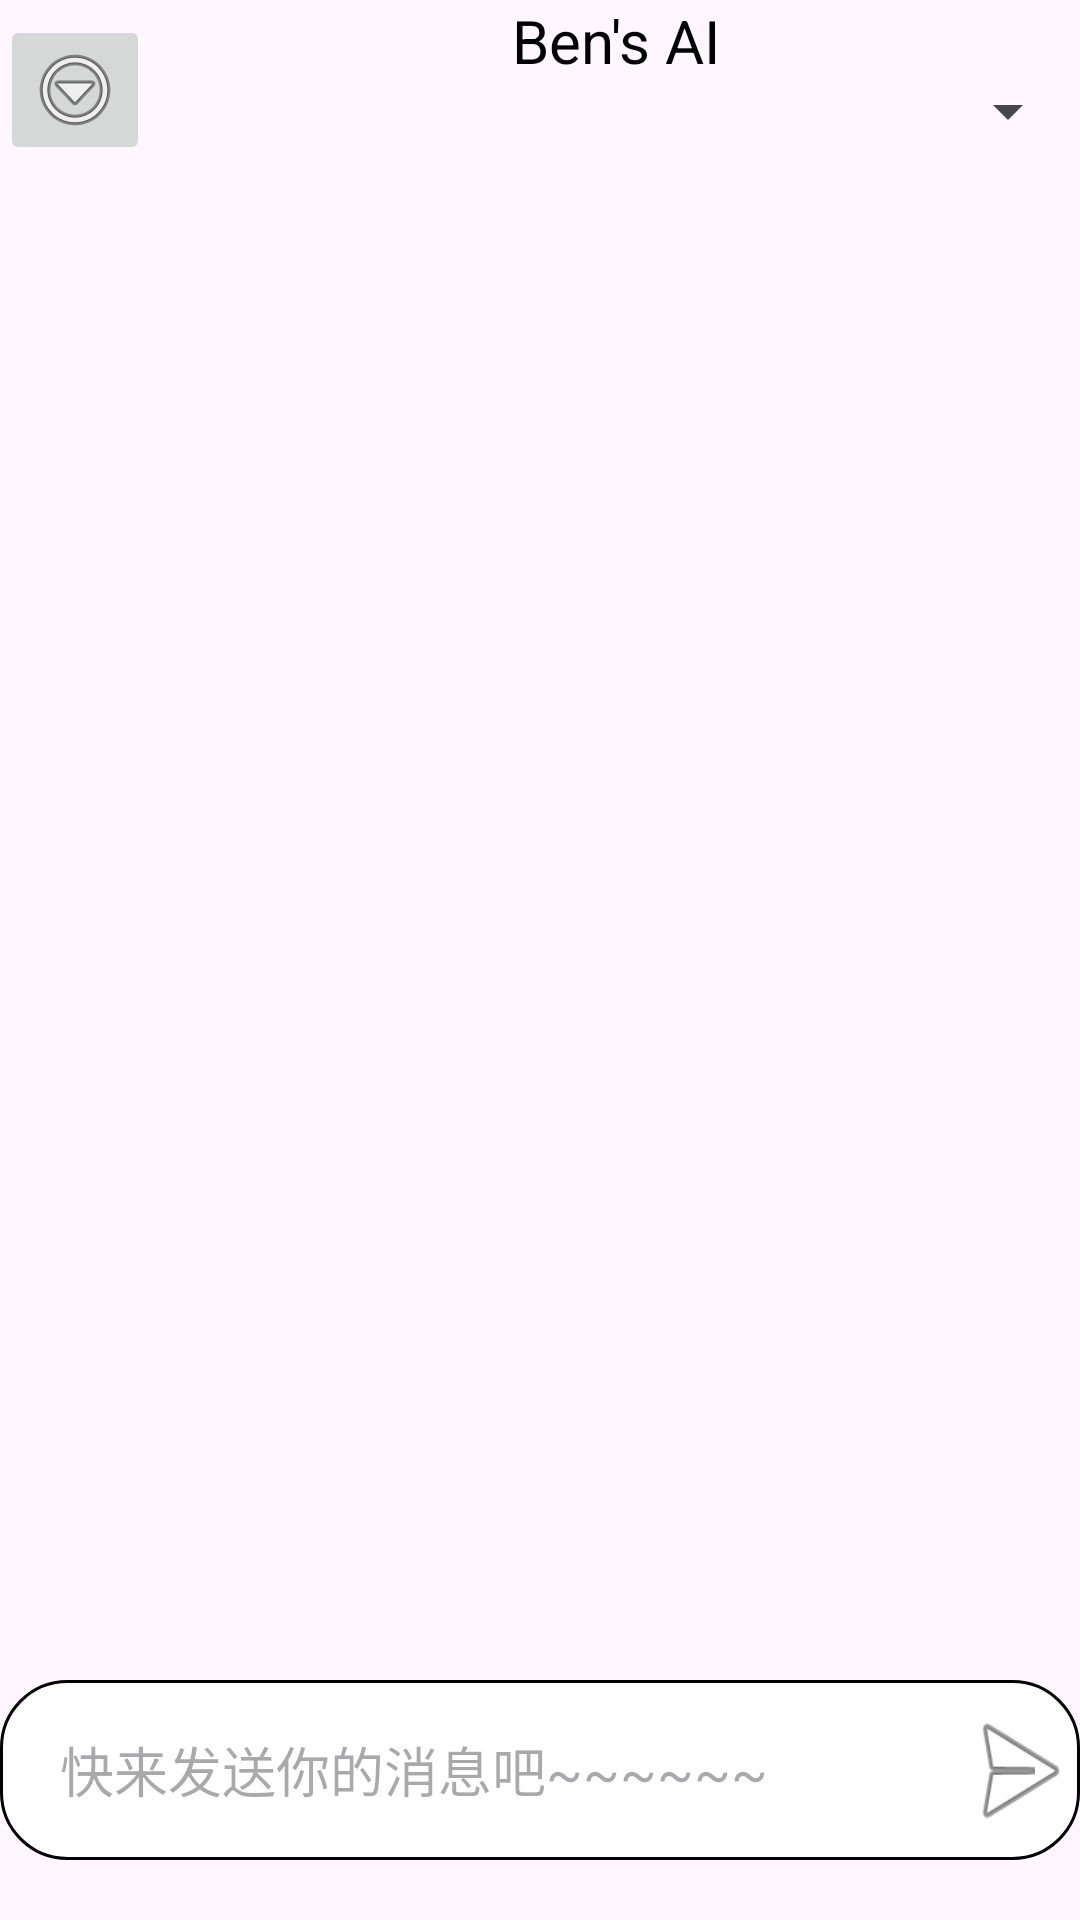

Screen size 1080x1920. Icon name, then its box in pixels as {"x1": x1, "y1": y1, "x2": x2, "y2": y2}:
打开菜单: {"x1": 12, "y1": 33, "x2": 138, "y2": 147}
